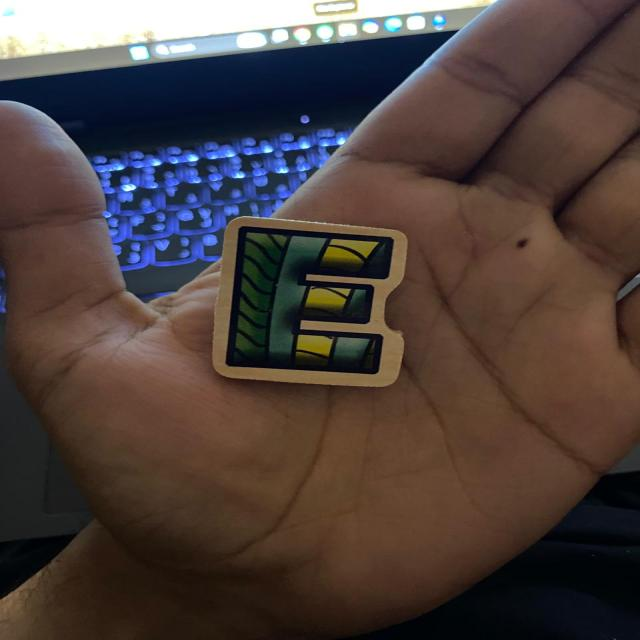E: (213, 218, 407, 386)
